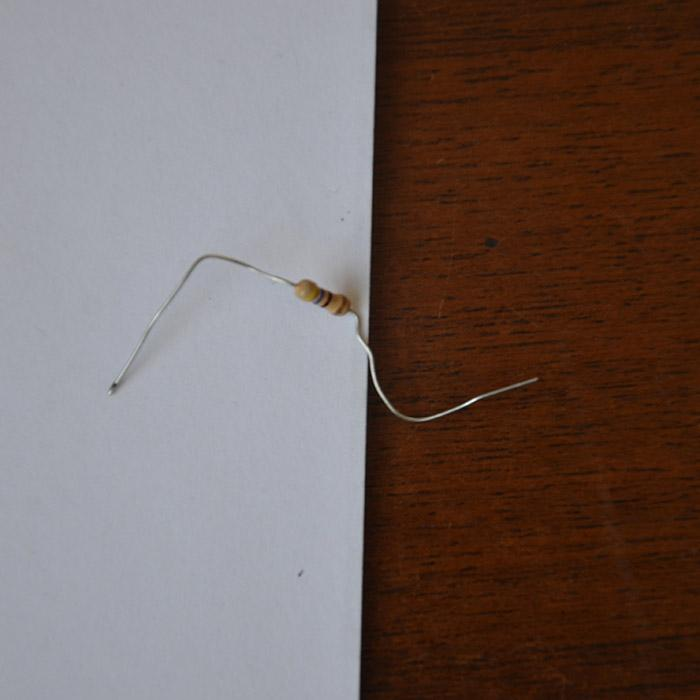resistor: (293, 278, 348, 316)
